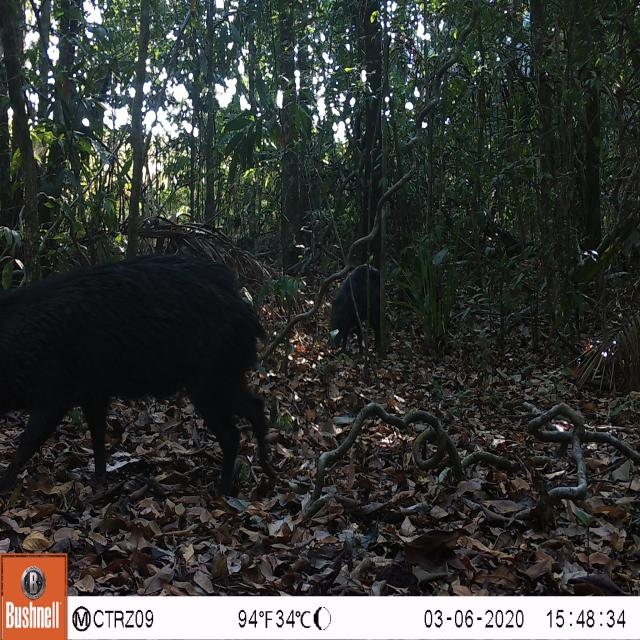Collared Peccary: (0, 236, 280, 503), (322, 255, 399, 366)
